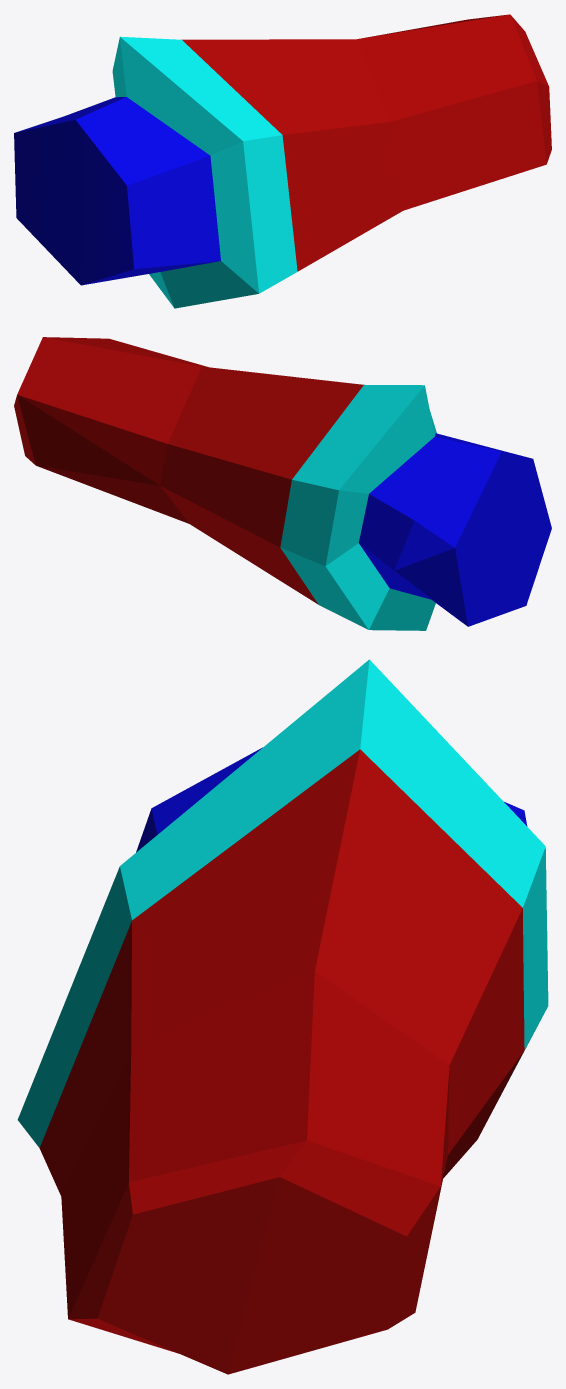
Rendered from Chr_ArmLowerLeft_Male_Static_07.fbx.
3 renders of one model, top to bottom at view 1: azimuth 30°, elevation 25°; view 2: azimuth 150°, elevation 25°; view 3: azimuth 270°, elevation 25°, orthographic. The views are drawn at different scales.
Parts seen in each view (by area): view 1: Chr_ArmLowerLeft_Male_07; view 2: Chr_ArmLowerLeft_Male_07; view 3: Chr_ArmLowerLeft_Male_07.
Part boxes in pixels (<box>): Chr_ArmLowerLeft_Male_07: <box>14,14,551,308</box>; Chr_ArmLowerLeft_Male_07: <box>14,337,551,630</box>; Chr_ArmLowerLeft_Male_07: <box>17,659,548,1374</box>.
Size of the model in its own units: 28.94 by 15.68 by 14.62.
